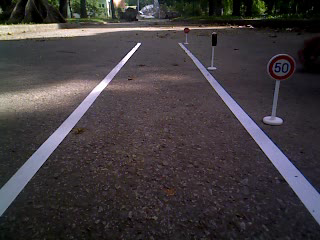Red: (207, 32, 221, 48)
Stop: (180, 28, 191, 35)
limit 50: (267, 51, 297, 83)
